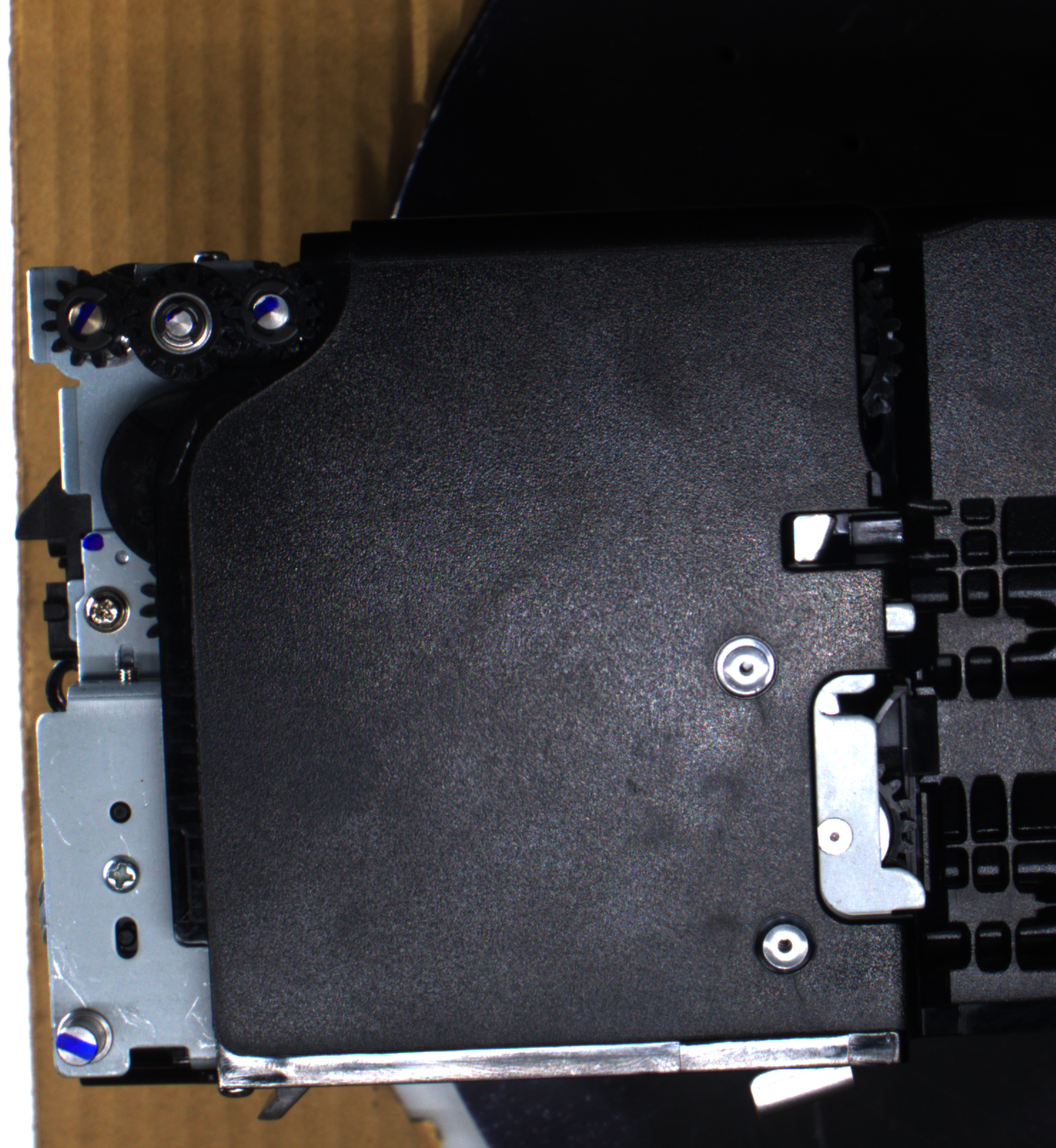centre_pin_presence: (744, 1051, 859, 1116)
centre_plate_presence: (806, 664, 938, 931)
centre_screw_presence: (709, 628, 783, 705), (748, 907, 820, 980)
gear1_presence: (39, 267, 139, 370)
gear2_presence: (123, 261, 238, 382)
gear3_presence: (222, 260, 324, 366)
side_screw_presence: (81, 583, 133, 634), (97, 852, 142, 894)
slanting_pin_presence: (51, 1004, 122, 1075)
